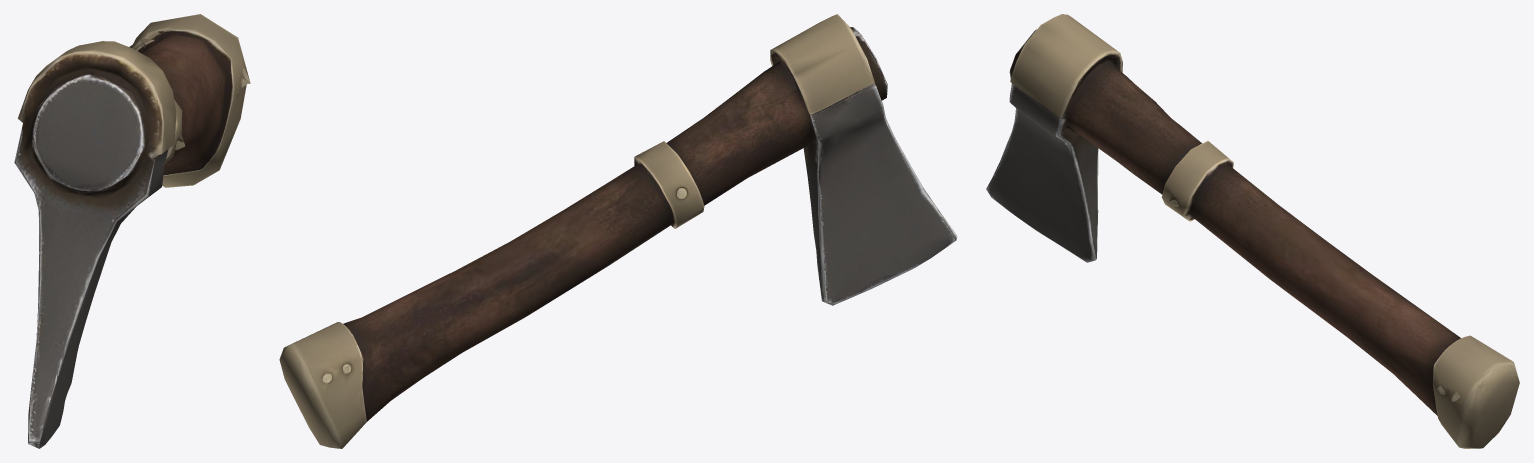
The model's file is cavalry_base_melee.glb.
3 views of the same model, side by side, from view 1: azimuth 30°, elevation 25°; view 2: azimuth 150°, elevation 25°; view 3: azimuth 270°, elevation 25° (orthographic). The views are drawn at different scales.
Parts seen in each view (by area): view 1: tripo_node_74248b56-fec0-4fa4-b4aa-9b76996aa5b4; view 2: tripo_node_74248b56-fec0-4fa4-b4aa-9b76996aa5b4; view 3: tripo_node_74248b56-fec0-4fa4-b4aa-9b76996aa5b4.
Part boxes in pixels (x1,y1,x2,y2): tripo_node_74248b56-fec0-4fa4-b4aa-9b76996aa5b4: [14, 14, 250, 448]; tripo_node_74248b56-fec0-4fa4-b4aa-9b76996aa5b4: [279, 14, 957, 448]; tripo_node_74248b56-fec0-4fa4-b4aa-9b76996aa5b4: [986, 14, 1519, 448].
Bounding box in the file's own units: 0.362 × 0.279 × 0.444.
1 material, 1 textured.
